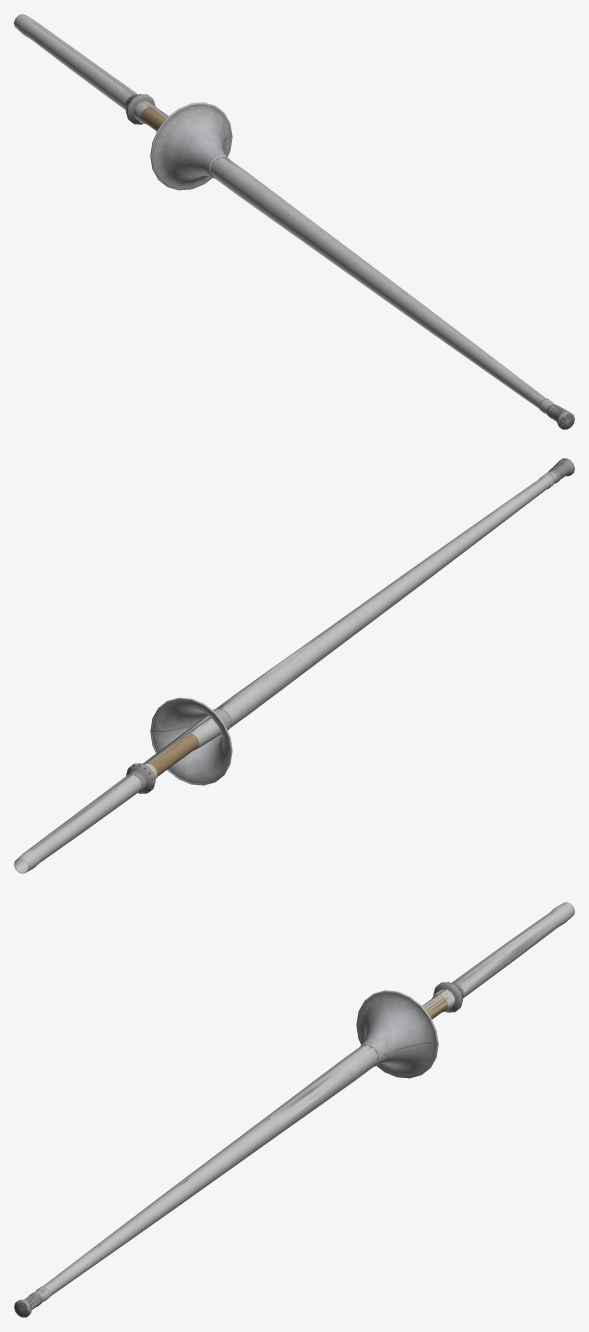
File: lance_light_512.glb
The picture shows the model from 3 angles, top to bottom: view 1: azimuth 30°, elevation 25°; view 2: azimuth 150°, elevation 25°; view 3: azimuth 330°, elevation 25°; orthographic projection.
Visible parts, largest first — view 1: lance_rear, lance_vamplate, lance_fore; view 2: lance_rear, lance_fore, lance_vamplate, lance_grapper; view 3: lance_rear, lance_vamplate, lance_fore.
Boxes of the visible parts, x1,y1,x2,y2 form: lance_rear: (14, 14, 324, 248); lance_vamplate: (150, 102, 232, 190); lance_fore: (310, 230, 546, 408); lance_rear: (14, 638, 328, 873); lance_fore: (314, 477, 549, 656); lance_vamplate: (150, 697, 232, 785); lance_grapper: (126, 763, 155, 793); lance_rear: (264, 902, 574, 1136); lance_vamplate: (356, 990, 438, 1078); lance_fore: (42, 1118, 278, 1296).
Bounding box in the file's own units: 0.2968 × 0.2968 × 3.42.
Materials: 1 (1 with a texture image).
